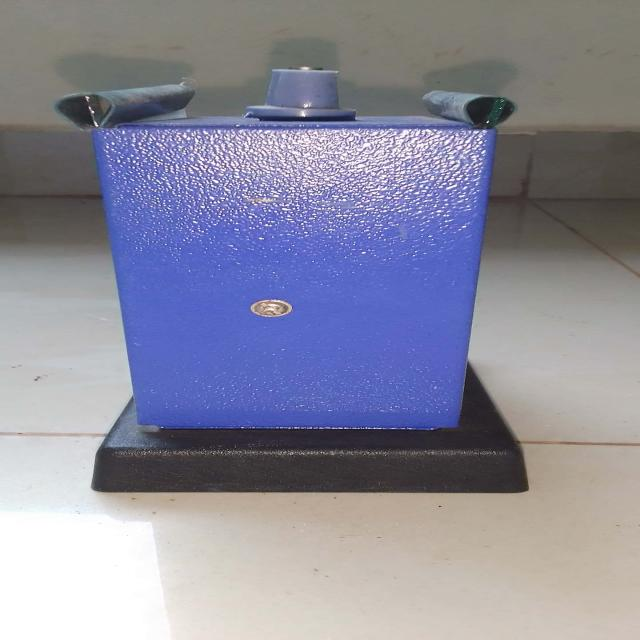Electroscope: (35, 67, 551, 503)
